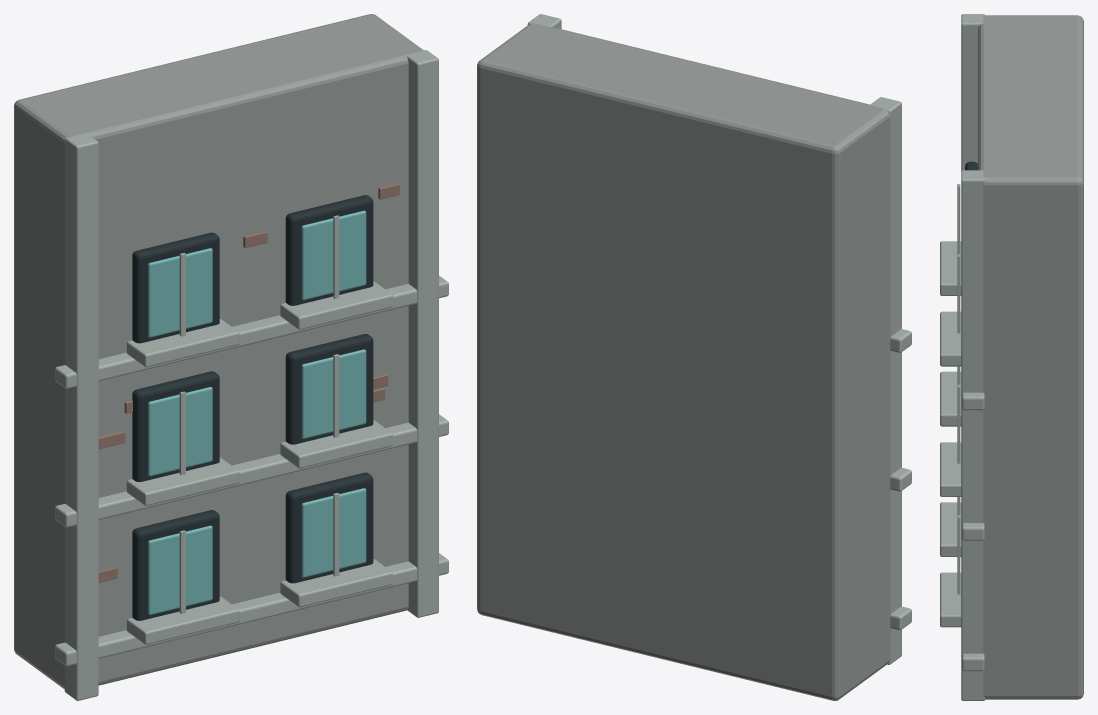
The model's file is SM_CityFacade3.fbx.
The picture shows the model from 3 angles, left to right: view 1: azimuth 30°, elevation 25°; view 2: azimuth 150°, elevation 25°; view 3: azimuth 270°, elevation 25°; orthographic projection. The views are drawn at different scales.
Visible parts, largest first — view 1: SM_CityFacade3; view 2: SM_CityFacade3; view 3: SM_CityFacade3.
Boxes of the visible parts, x1=… form: SM_CityFacade3: x1=14, y1=14, x2=448, y2=700; SM_CityFacade3: x1=477, y1=14, x2=911, y2=700; SM_CityFacade3: x1=940, y1=14, x2=1083, y2=700.
Bounding box in the file's own units: 275 × 95 × 380.
